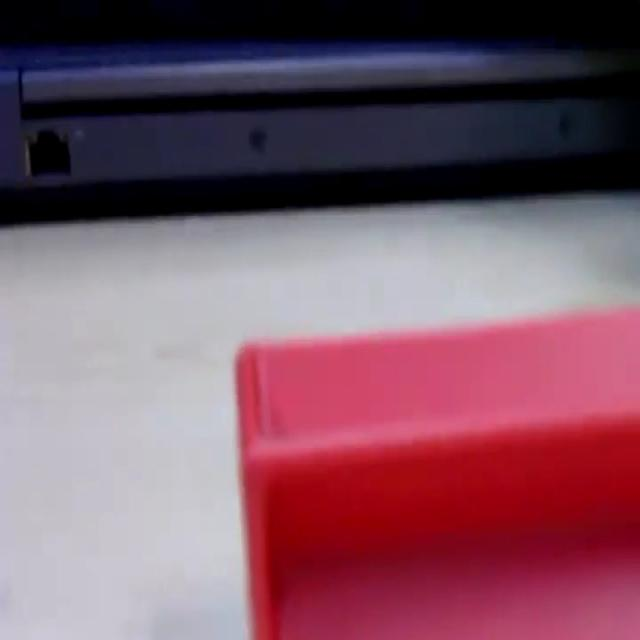red_block: (234, 303, 638, 636)
